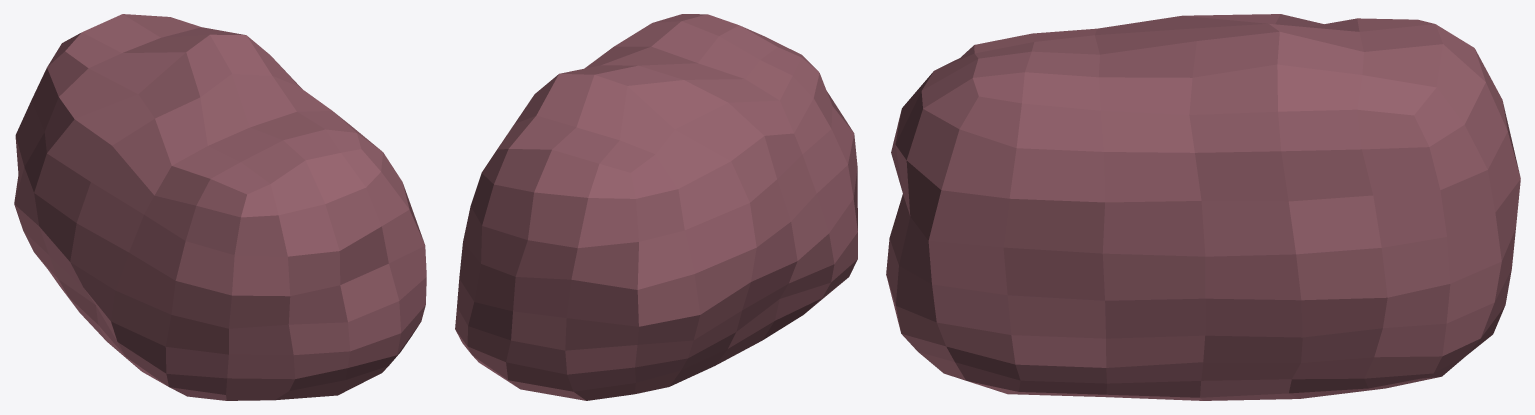
File: Rock_04_Lod1.fbx
3 renders of one model, left to right at view 1: azimuth 30°, elevation 25°; view 2: azimuth 150°, elevation 25°; view 3: azimuth 270°, elevation 25°, orthographic. The views are drawn at different scales.
Visible parts, largest first — view 1: Rock_04_Lod1; view 2: Rock_04_Lod1; view 3: Rock_04_Lod1.
Part boxes in pixels (left/top/right/bottom): Rock_04_Lod1: left=14, top=14, right=426, bottom=400; Rock_04_Lod1: left=455, top=14, right=857, bottom=400; Rock_04_Lod1: left=886, top=14, right=1520, bottom=400.
Size of the model in its own units: 291 by 275 by 473.
